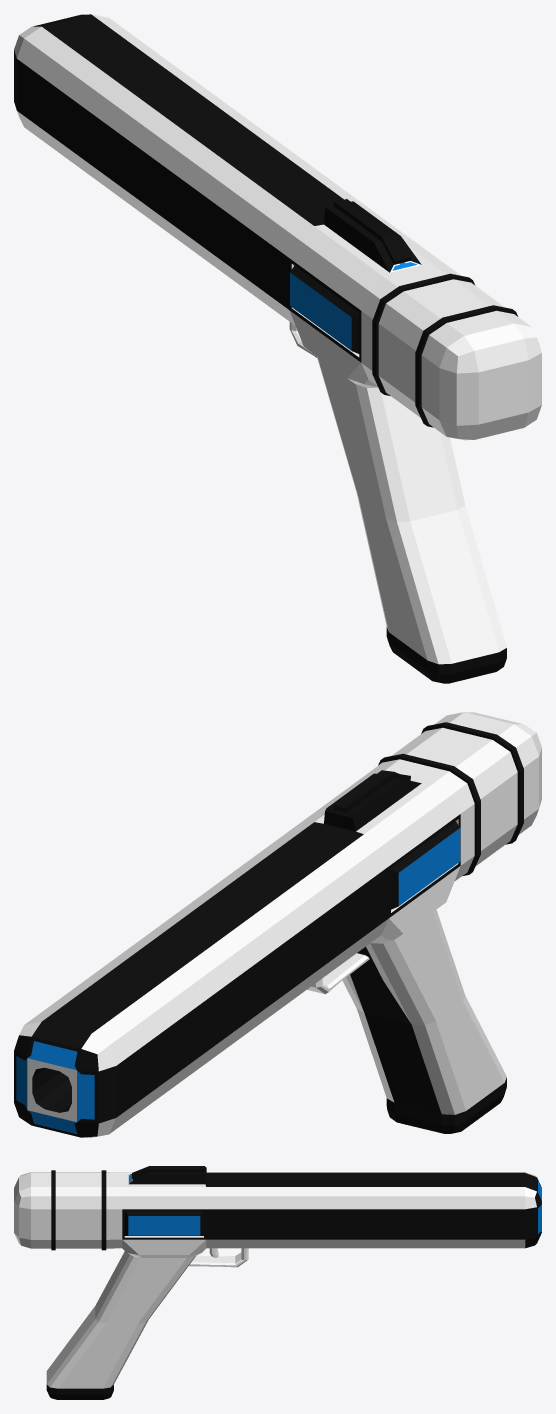
File: rifle.fbx
The picture shows the model from 3 angles, top to bottom: view 1: azimuth 30°, elevation 25°; view 2: azimuth 150°, elevation 25°; view 3: azimuth 270°, elevation 25°; orthographic projection. The views are drawn at different scales.
Visible parts, largest first — view 1: Cube, Cube.001; view 2: Cube, Cube.001; view 3: Cube, Cube.001.
Part boxes in pixels (bbox=[...]): Cube: bbox=[14, 14, 541, 664]; Cube.001: bbox=[386, 627, 506, 683]; Cube: bbox=[14, 712, 541, 1137]; Cube.001: bbox=[386, 1077, 506, 1133]; Cube: bbox=[14, 1166, 541, 1388]; Cube.001: bbox=[46, 1384, 113, 1399].
Size of the model in its own units: 21.85 by 73.98 by 157.
